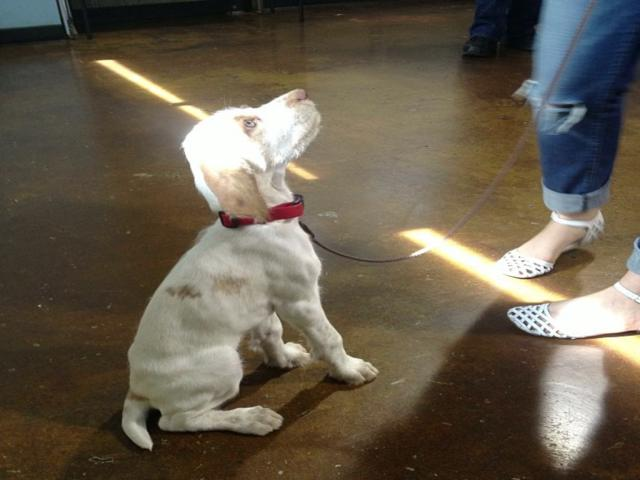Dog: (118, 87, 381, 450)
